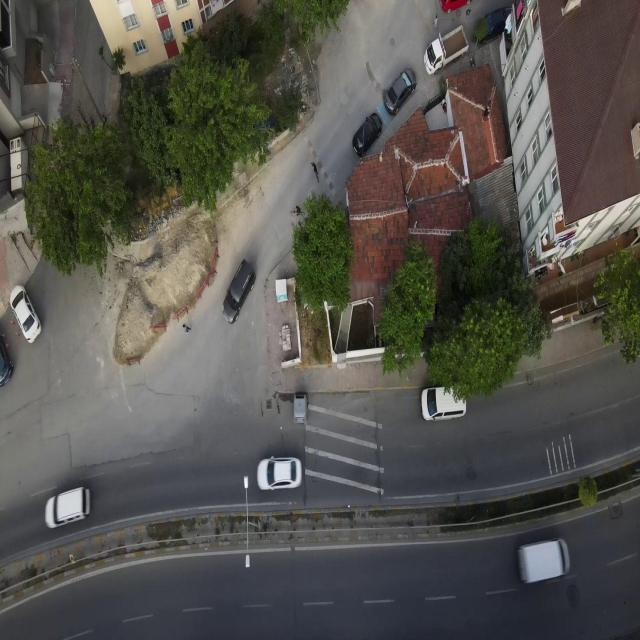p3rson: (182, 322, 192, 335), (293, 204, 301, 217), (311, 162, 318, 176), (433, 14, 438, 30)
